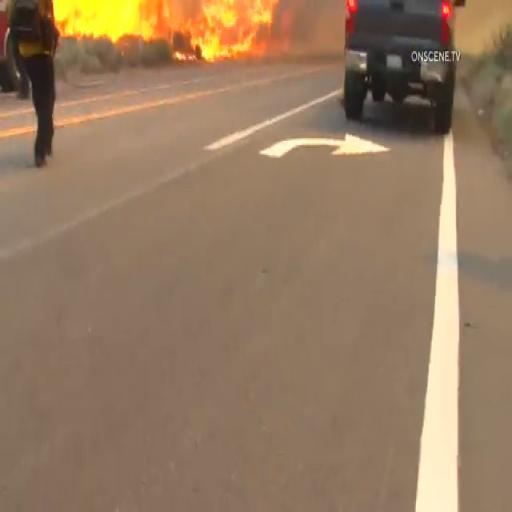fire: (66, 0, 286, 47)
